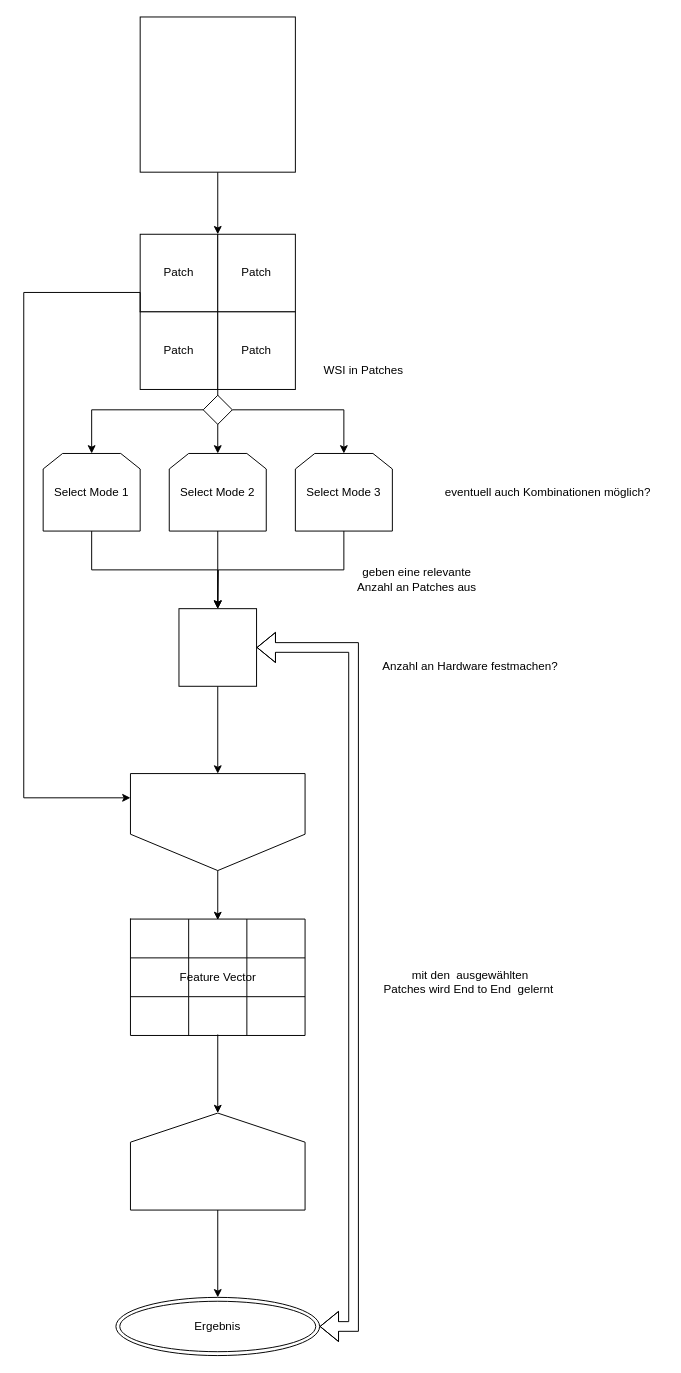
This 681x1373 diagram has some shape labels left out. The centre of each missing label's shape, as x and y in pixels:
"Decoder" goes at point 217,1161.
"Encoder" goes at point 217,822.
"Patch(es)" goes at point 217,647.
"WSI" goes at point 217,94.
